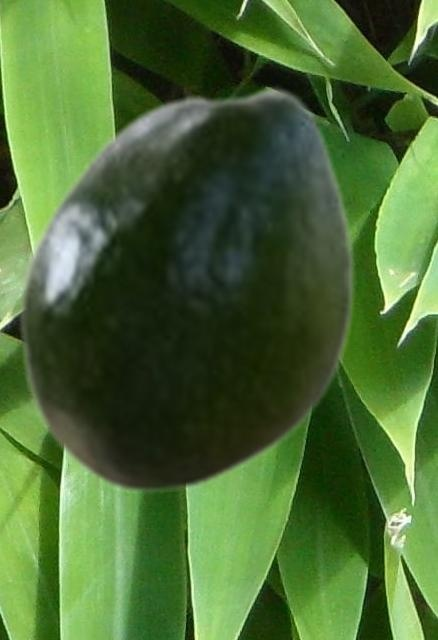avocado: (16, 85, 355, 494)
